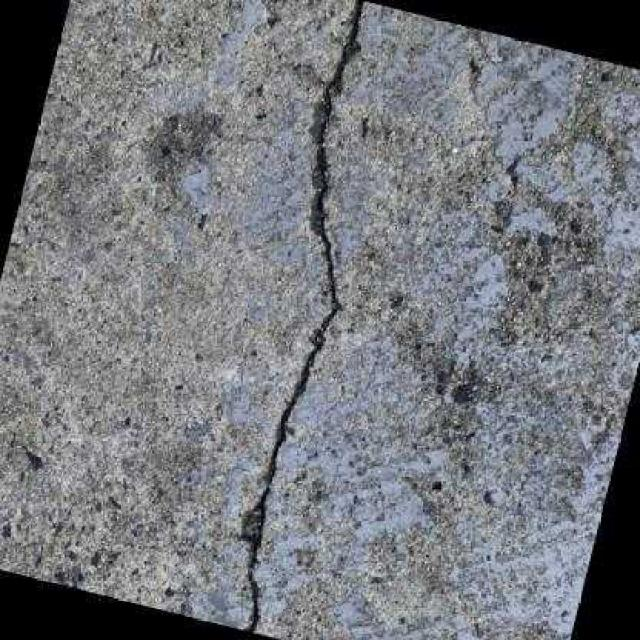D00: (247, 0, 363, 632)
